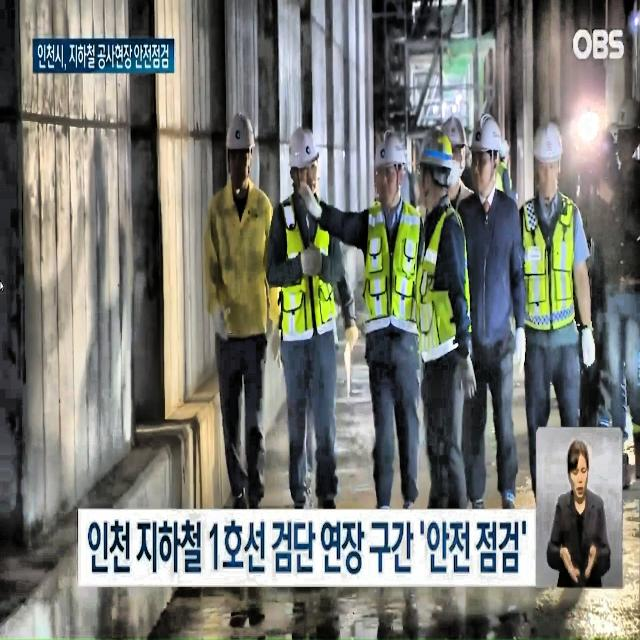safety_helmet: (365, 135, 413, 184), (466, 116, 515, 163), (279, 129, 323, 180), (222, 101, 264, 152), (417, 123, 455, 168), (534, 126, 572, 168)
safety_jacket: (270, 192, 352, 368), (359, 191, 435, 360), (508, 205, 600, 335), (402, 205, 476, 356)
